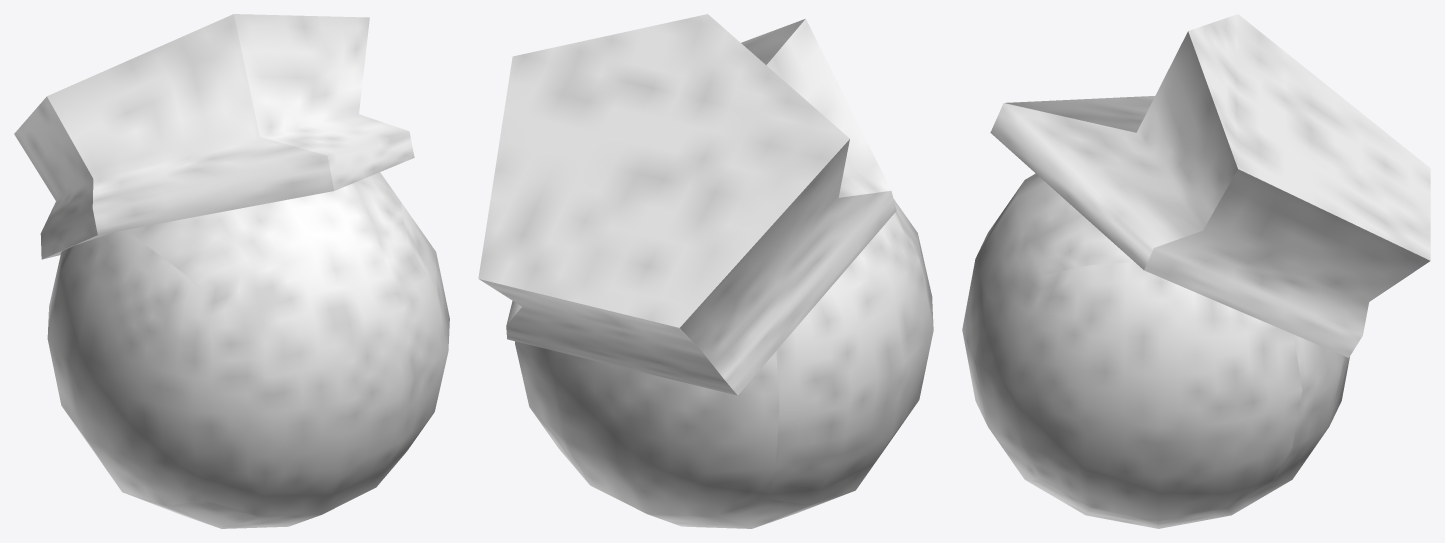
Rendered from Cop.fbx.
3 views of the same model, side by side, from view 1: azimuth 30°, elevation 25°; view 2: azimuth 150°, elevation 25°; view 3: azimuth 270°, elevation 25° (orthographic). The views are drawn at different scales.
Visible parts, largest first — view 1: Cop2; view 2: Cop2; view 3: Cop2.
Part boxes in pixels (<box>): Cop2: <box>14,14,449,528</box>; Cop2: <box>478,14,933,528</box>; Cop2: <box>962,14,1430,528</box>.
Size of the model in its own units: 1.32 by 1.77 by 1.57.
